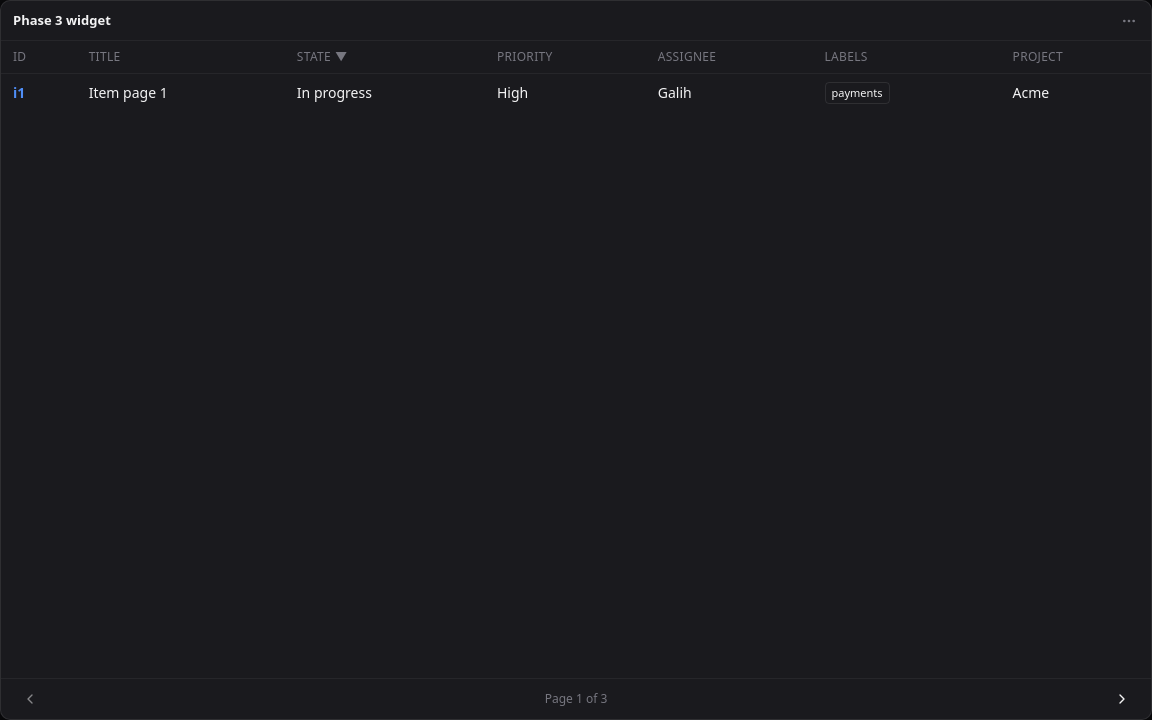
WidgetCard row-list widgets › paginates the row list and refetches the next page
Expected: the text "Item page 1" is shown, [77, 74, 285, 112]
Expected: the text "Page 1 of 3" is shown, [545, 691, 607, 707]
What coordinates should you click on to do the following:
click the button named "Next page"
I would click on:
 (1122, 699)
Its box is [1105, 685, 1139, 713].
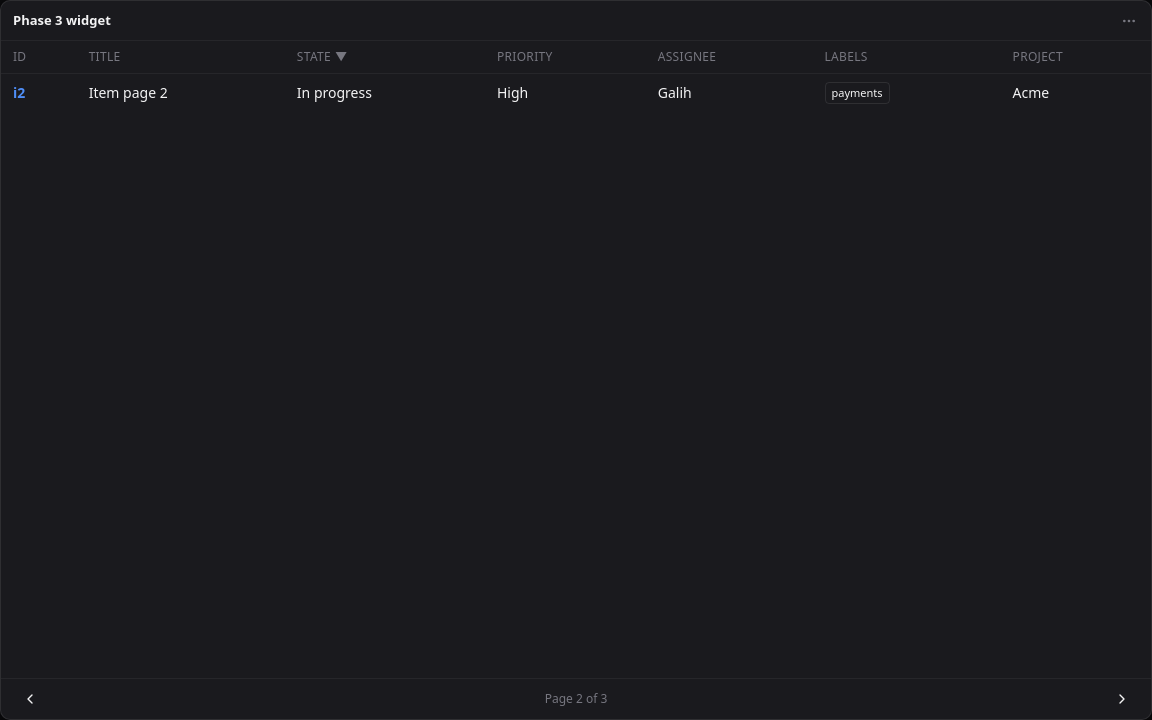
Now the text "Item page 2" is shown, box [77, 74, 285, 112]
